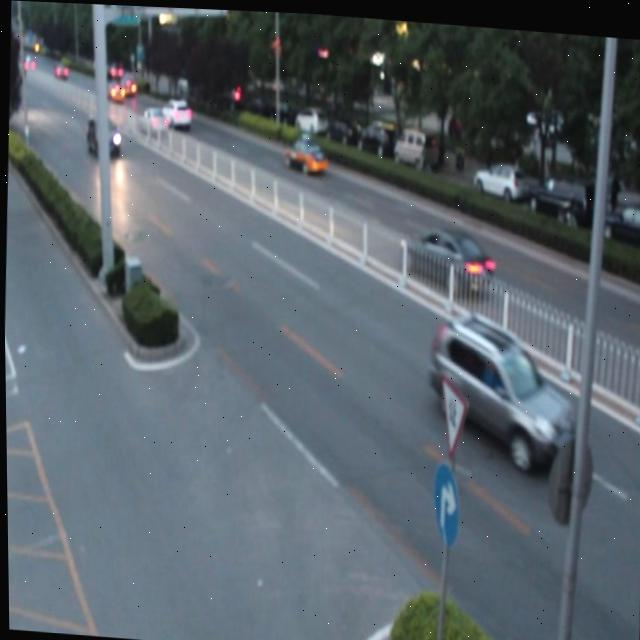car: (430, 311, 573, 457), (399, 220, 490, 293), (282, 132, 326, 173), (84, 115, 120, 153), (160, 95, 193, 129), (140, 104, 168, 134)
